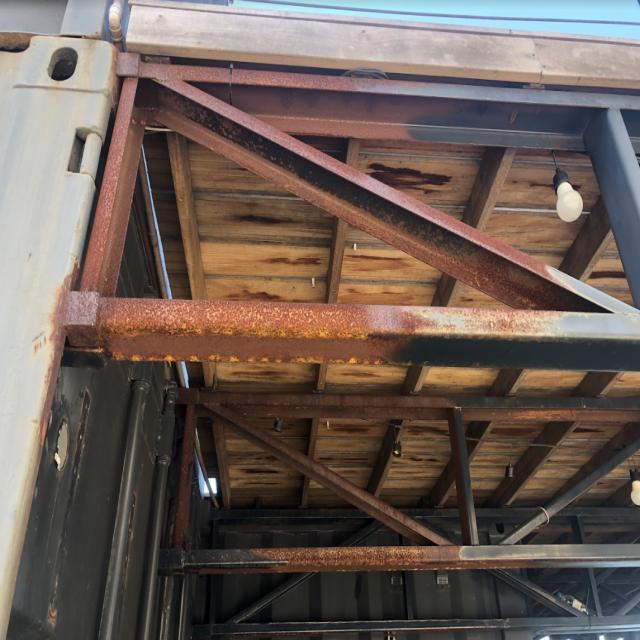Uniform Corrosion: (135, 77, 599, 309), (118, 53, 639, 151), (66, 291, 639, 371), (201, 402, 450, 545), (162, 544, 639, 573), (81, 79, 143, 295), (180, 390, 454, 419), (462, 398, 639, 420)
